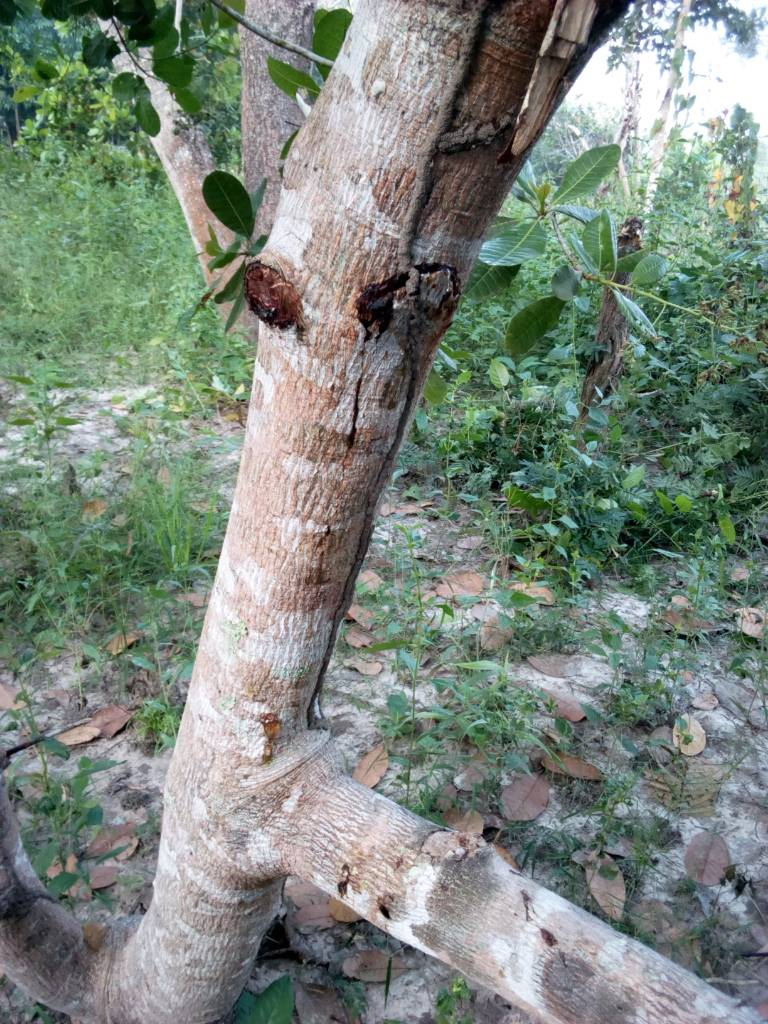Apate terebrans: (202, 222, 530, 369)
